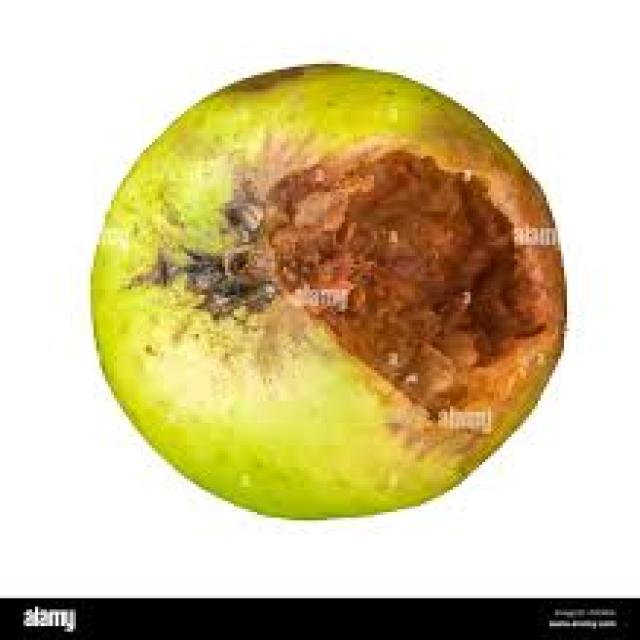Rotten Apple: (91, 58, 568, 522)
